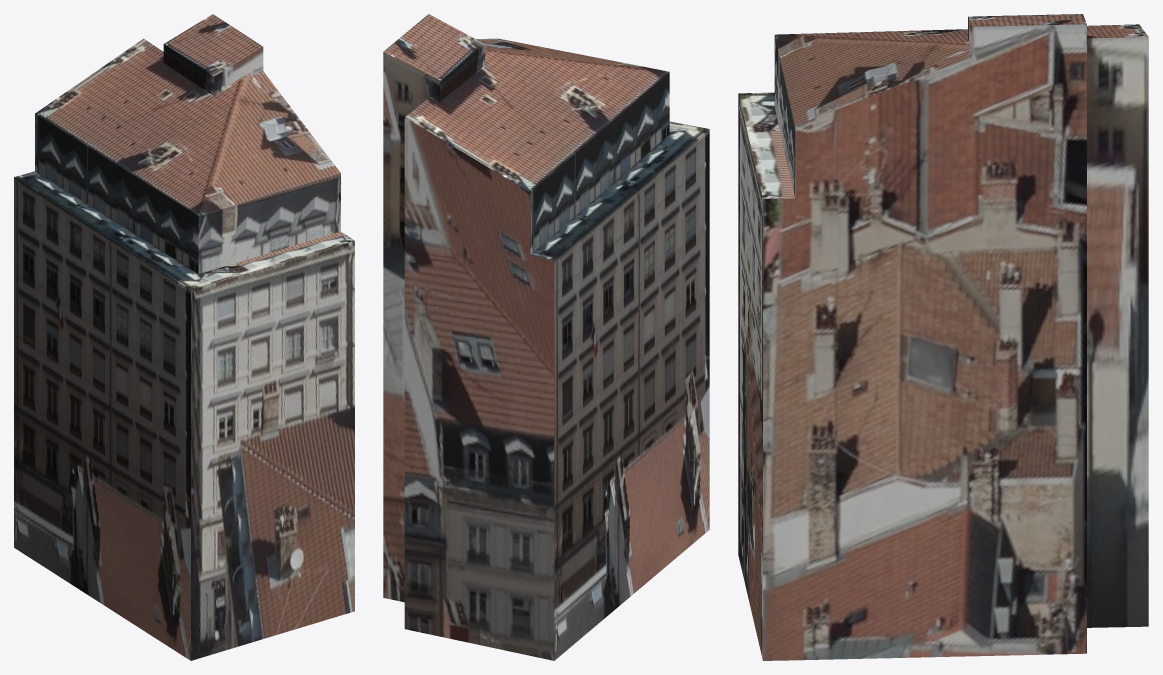
3 renders of one model, left to right at view 1: azimuth 30°, elevation 25°; view 2: azimuth 150°, elevation 25°; view 3: azimuth 270°, elevation 25°, orthographic. The views are drawn at different scales.
Visible parts, largest first — view 1: Z_UP; view 2: Z_UP; view 3: Z_UP.
Part boxes in pixels (x1=…): Z_UP: x1=14, y1=14, x2=354, y2=660; Z_UP: x1=383, y1=14, x2=709, y2=660; Z_UP: x1=738, y1=14, x2=1148, y2=660.
Size of the model in its own units: 12.22 by 30.98 by 18.3.
2 materials, 1 textured.
